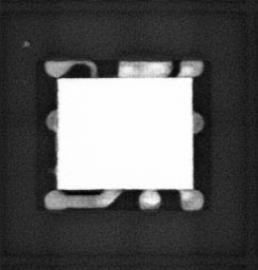DIE_INK: (22, 38, 31, 48)
